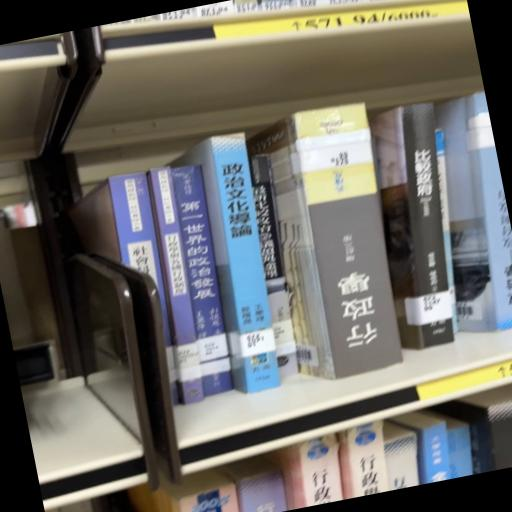reverse: (249, 104, 403, 380)
